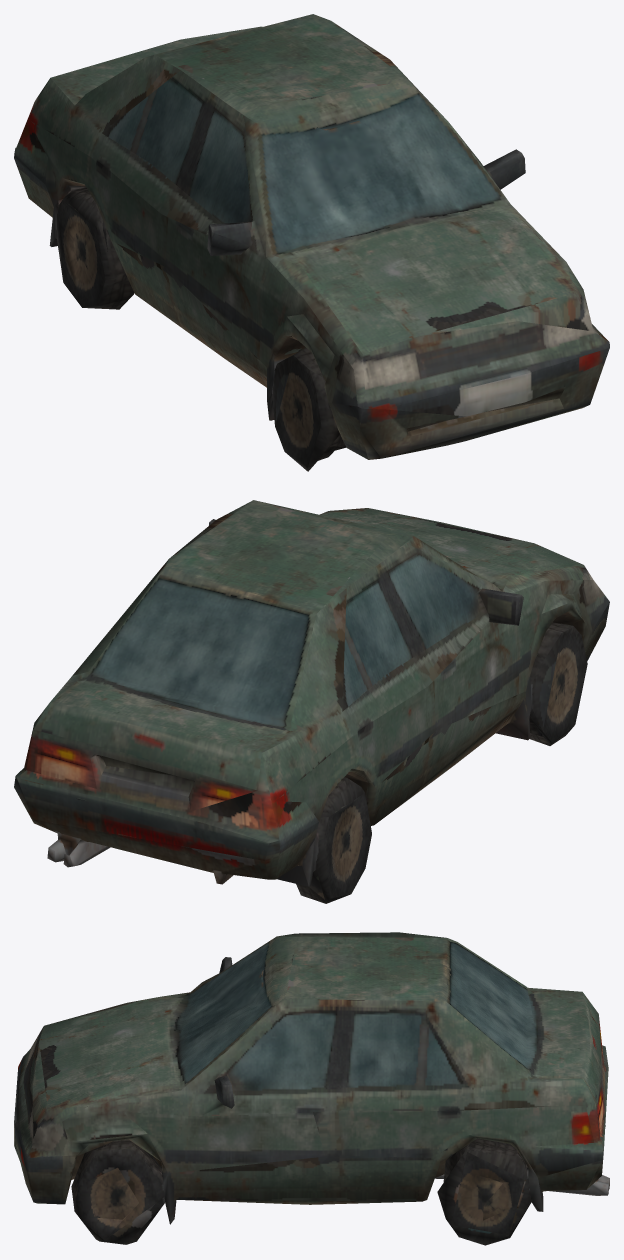
Rendered from wreck_car.glb.
3 views of the same model, one above another, from view 1: azimuth 30°, elevation 25°; view 2: azimuth 150°, elevation 25°; view 3: azimuth 270°, elevation 25° (orthographic). The views are drawn at different scales.
Parts seen in each view (by area): view 1: BodyPaint, Glass, Metal, Rubber; view 2: BodyPaint, Glass, Metal, Rubber; view 3: BodyPaint, Glass, Metal, Rubber.
Part boxes in pixels (x1,y1,x2,y2): BodyPaint: [14, 14, 593, 459]; Glass: [99, 70, 522, 315]; Metal: [14, 148, 609, 459]; Rubber: [29, 158, 346, 471]; BodyPaint: [33, 500, 593, 878]; Glass: [17, 536, 540, 839]; Metal: [14, 580, 609, 897]; Rubber: [275, 609, 589, 903]; BodyPaint: [22, 932, 604, 1203]; Glass: [123, 936, 604, 1148]; Metal: [14, 1027, 609, 1245]; Rubber: [64, 1133, 585, 1245].
Bounding box in the file's own units: 2.44 × 2 × 4.73.
4 materials, 4 textured.
